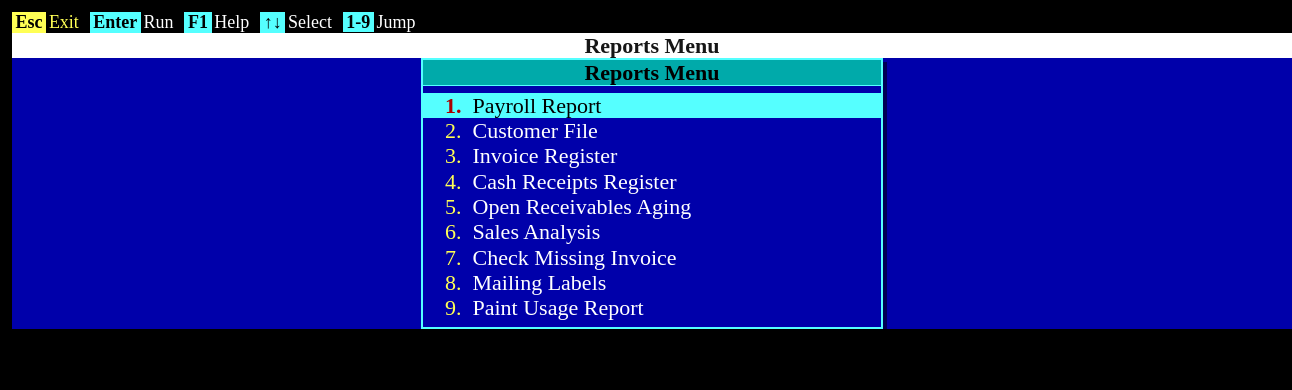
Test case: ReportsScreen sales analysis › searches sales analysis by company name or number
Click the button "6.Sales Analysis" at x=536, y=232, box [423,219,881,245]
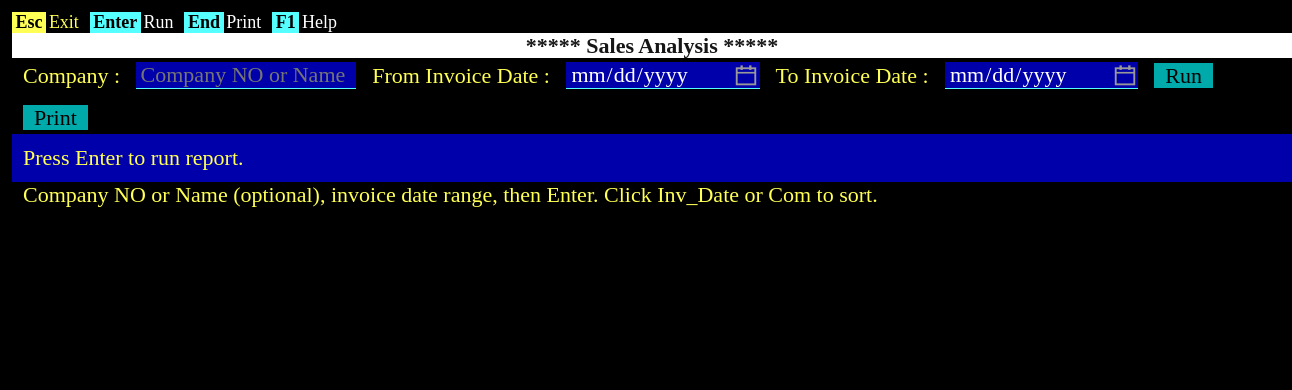
Type "ACME" into the field named "Sales company search" at x=246, y=76, box [136,62,356,89]
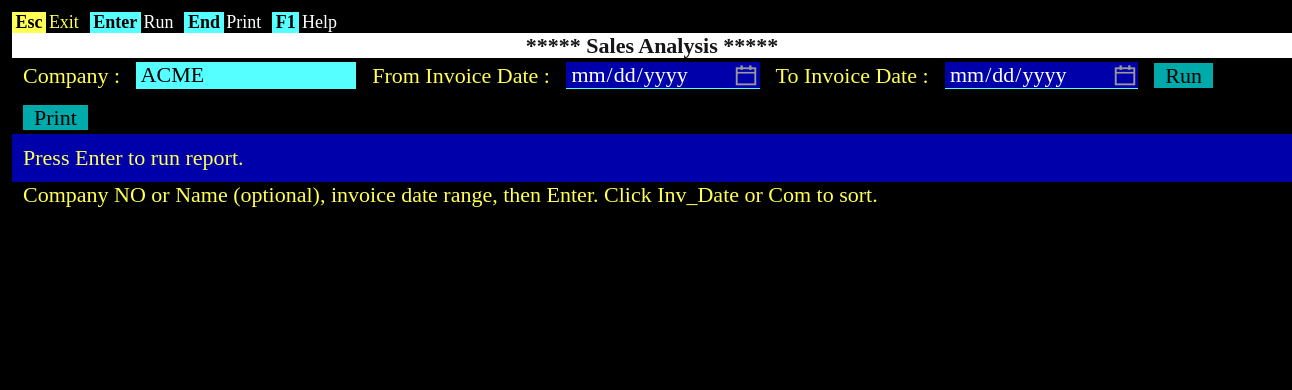
Click the button "Run" at x=1184, y=76, box [1154,63,1213,88]
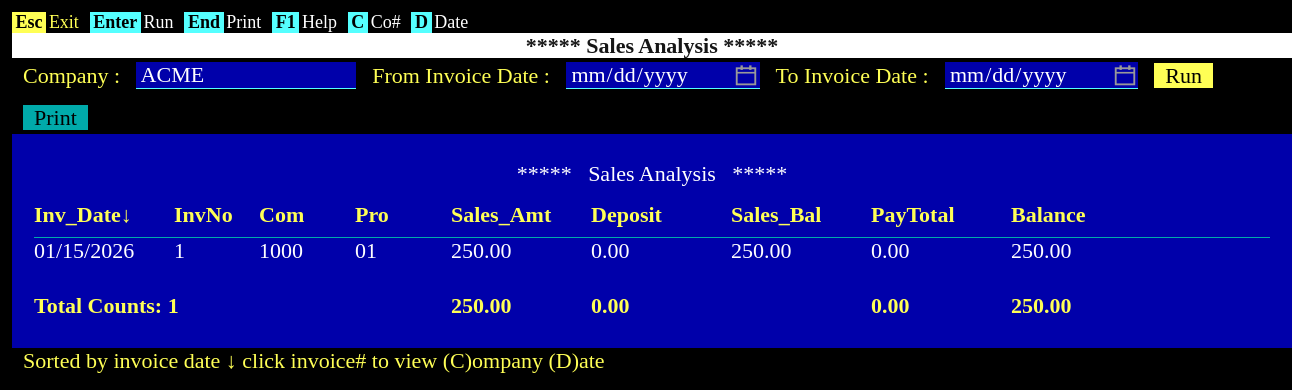
Check: the text "Total Counts: 1" is shown, box [34,293,179,318]
Check: the text "1000" is shown, box [259,238,303,263]
Check: the 1st text "250.00" is shown, box [451,238,512,263]
